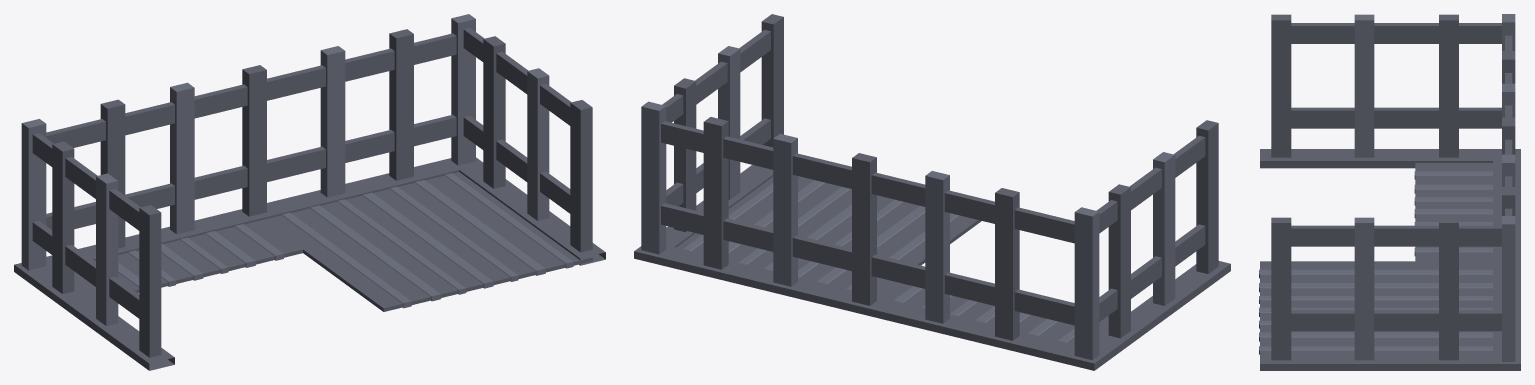
Rendered from SM_House_Stairs_1B.fbx.
3 renders of one model, left to right at view 1: azimuth 30°, elevation 25°; view 2: azimuth 150°, elevation 25°; view 3: azimuth 270°, elevation 25°, orthographic. The views are drawn at different scales.
Parts seen in each view (by area): view 1: SM_House_Stairs_1B_LOD0; view 2: SM_House_Stairs_1B_LOD0; view 3: SM_House_Stairs_1B_LOD0.
Part boxes in pixels (x1,y1,x2,y2): SM_House_Stairs_1B_LOD0: (14, 14, 605, 370); SM_House_Stairs_1B_LOD0: (634, 14, 1230, 370); SM_House_Stairs_1B_LOD0: (1259, 14, 1520, 370).
Bounding box in the file's own units: 327 × 168 × 103.
1 material, 1 textured.
